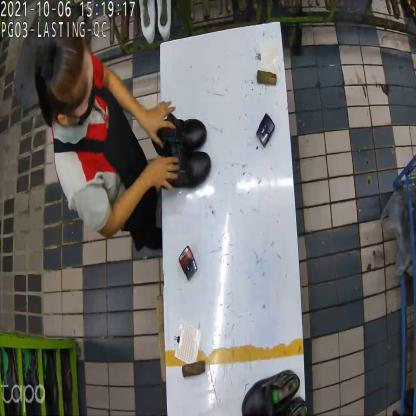shoes: (153, 110, 214, 189), (242, 367, 306, 415)
stamp: (256, 111, 275, 149), (176, 249, 199, 280)
